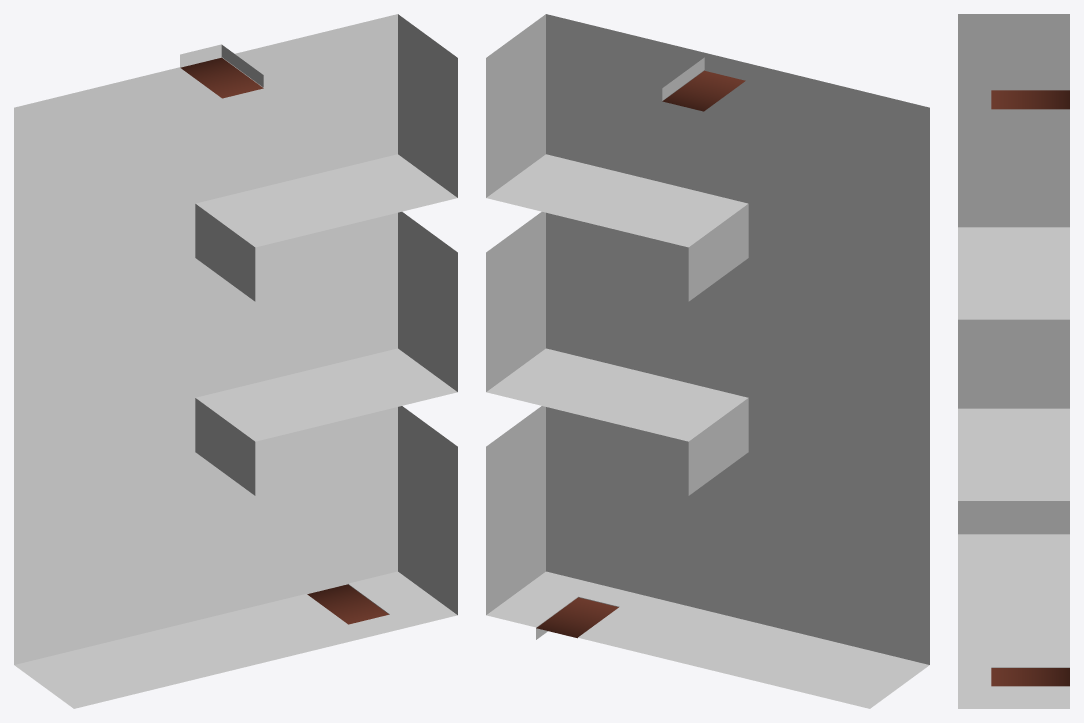
File: room04.gltf
The picture shows the model from 3 angles, left to right: view 1: azimuth 30°, elevation 25°; view 2: azimuth 150°, elevation 25°; view 3: azimuth 270°, elevation 25°; orthographic projection. The views are drawn at different scales.
Parts seen in each view (by area): view 1: Cube.003, Door, Door.001; view 2: Cube.003, Door, Door.001; view 3: Cube.003, Door, Door.001.
Boxes of the visible parts, left/top/right/bottom form: Cube.003: left=14, top=14, right=457, bottom=708; Door: left=180, top=57, right=263, bottom=98; Door.001: left=307, top=584, right=388, bottom=624; Cube.003: left=486, top=14, right=929, bottom=708; Door: left=662, top=70, right=745, bottom=111; Door.001: left=536, top=597, right=618, bottom=638; Cube.003: left=958, top=14, right=1069, bottom=708; Door: left=991, top=90, right=1069, bottom=109; Door.001: left=991, top=668, right=1069, bottom=686.
Size of the model in its own units: 11.53 by 16.73 by 3.12.
